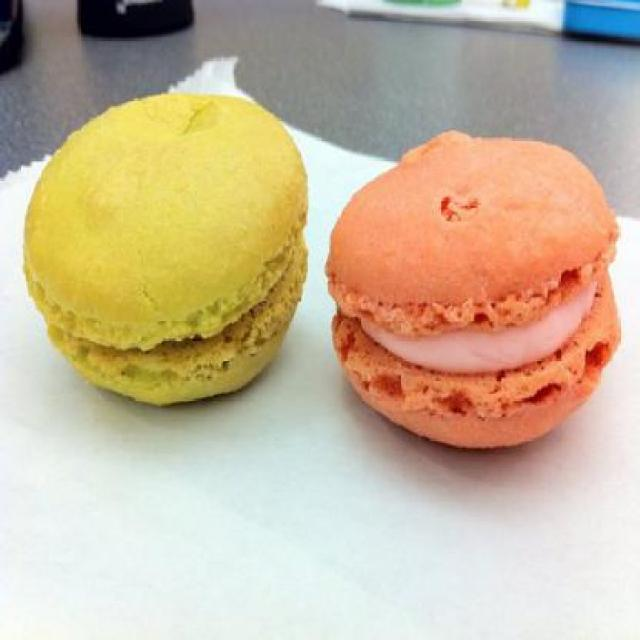Macaron: (9, 81, 628, 454)
